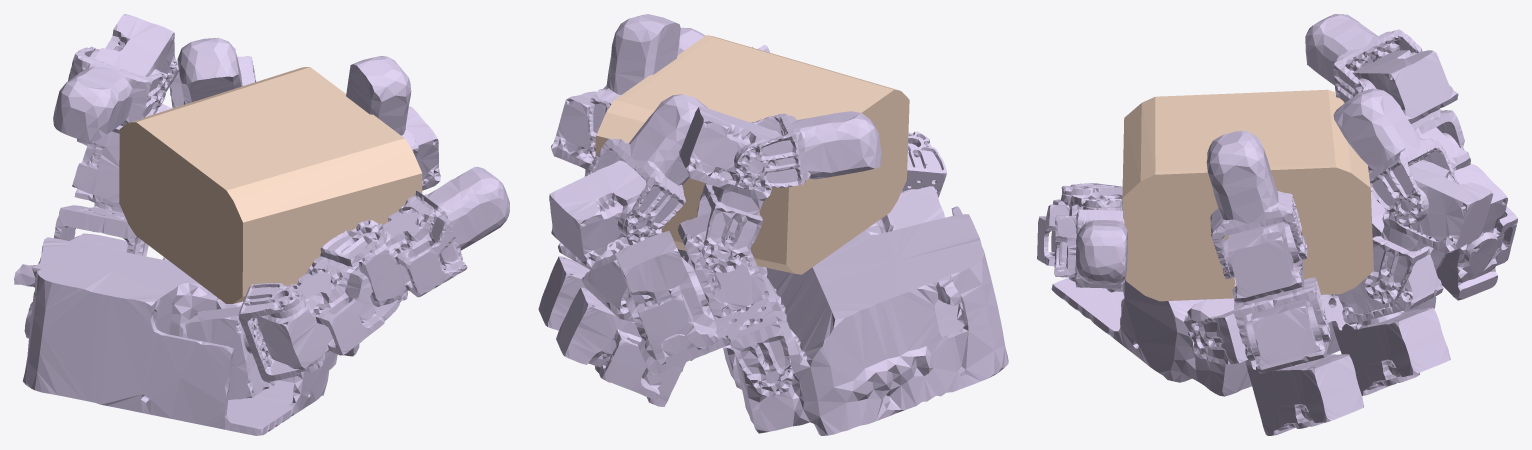
3 renders of one model, left to right at view 1: azimuth 30°, elevation 25°; view 2: azimuth 150°, elevation 25°; view 3: azimuth 270°, elevation 25°, orthographic. The views are drawn at different scales.
Visible parts, largest first — view 1: LEAP_hand, world; view 2: LEAP_hand, world; view 3: LEAP_hand, world.
Boxes of the visible parts, box(x1,y1,x2,y2) form: LEAP_hand: box(14, 14, 509, 435); world: box(119, 67, 422, 303); LEAP_hand: box(538, 14, 1008, 435); world: box(595, 35, 909, 274); LEAP_hand: box(1037, 14, 1517, 435); world: box(1122, 89, 1373, 301).
Bounding box in the file's own units: 0.1898 × 0.1409 × 0.1955.
